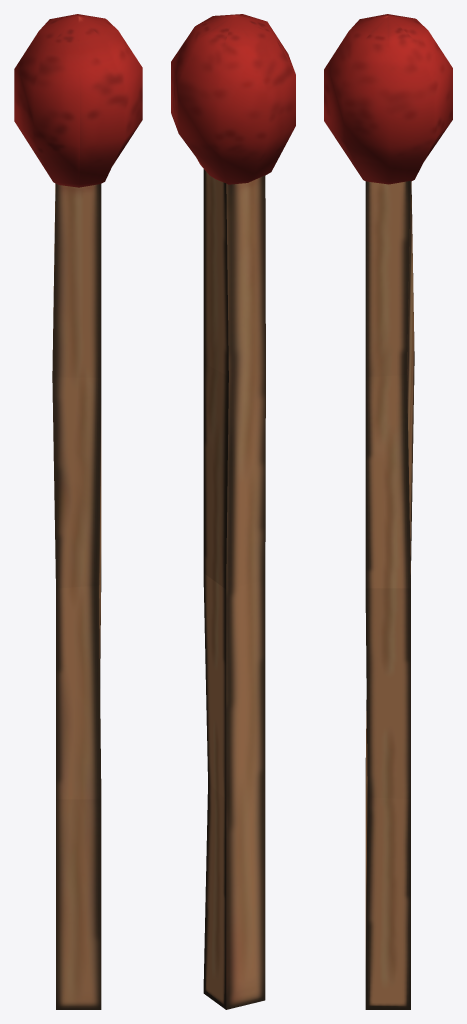
Rendered from stick.fbx.
3 views of the same model, side by side, from view 1: azimuth 90°, elevation 25°; view 2: azimuth 210°, elevation 25°; view 3: azimuth 270°, elevation 25° (orthographic).
Visible parts, largest first — view 1: Stick; view 2: Stick; view 3: Stick.
Part boxes in pixels (bbox=[...]): Stick: bbox=[14, 14, 142, 1009]; Stick: bbox=[171, 14, 295, 1009]; Stick: bbox=[324, 14, 452, 1009].
Size of the model in its own units: 3.8 by 32.08 by 3.8.
